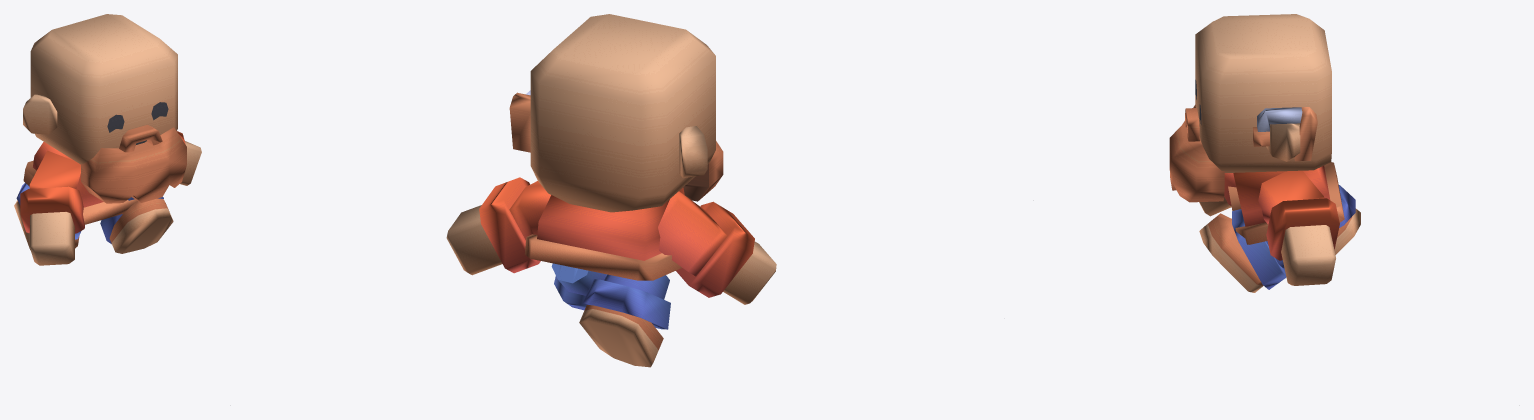
The model's file is rival_sprint_4.glb.
3 views of the same model, side by side, from view 1: azimuth 30°, elevation 25°; view 2: azimuth 150°, elevation 25°; view 3: azimuth 270°, elevation 25° (orthographic). The views are drawn at different scales.
Parts seen in each view (by area): view 1: rival-sprint-4; view 2: rival-sprint-4; view 3: rival-sprint-4.
Boxes of the visible parts, <box> form: rival-sprint-4: <box>14,14,201,265</box>; rival-sprint-4: <box>446,14,776,367</box>; rival-sprint-4: <box>1169,14,1360,292</box>.
Bounding box in the file's own units: 1.2 × 0.7311 × 1.2.
1 material, 1 textured.
